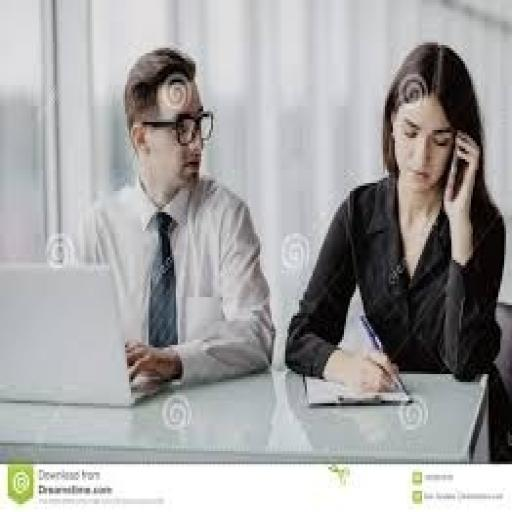calling: (281, 40, 508, 398), (49, 42, 275, 396)
